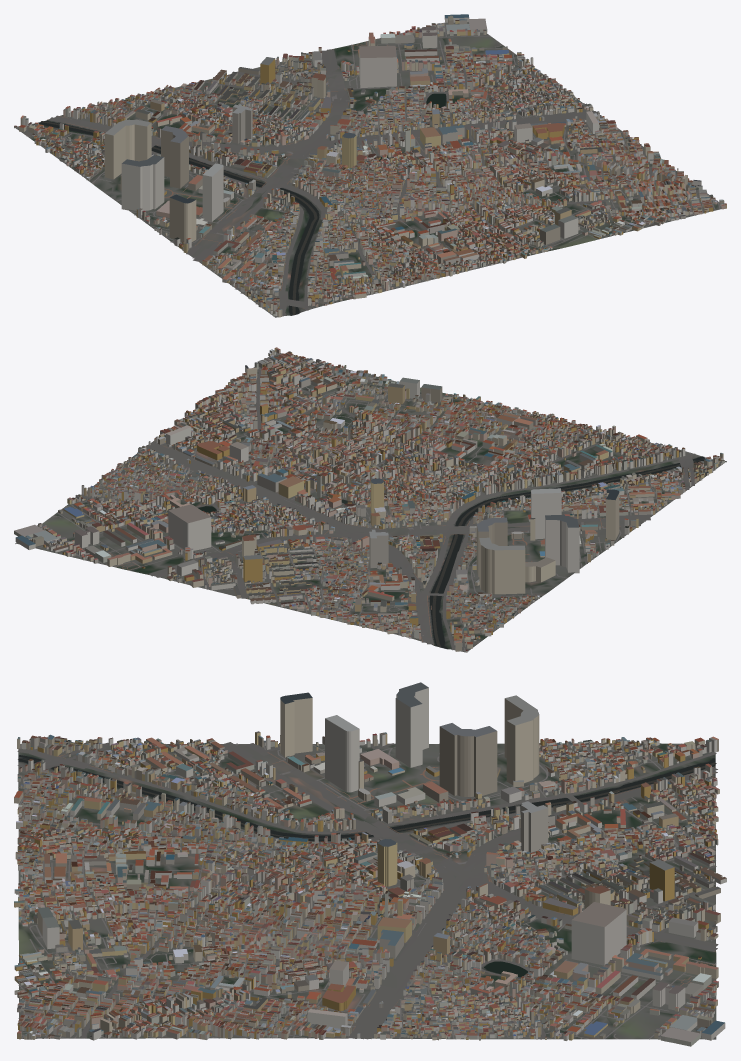
3 views of the same model, one above another, from view 1: azimuth 30°, elevation 25°; view 2: azimuth 150°, elevation 25°; view 3: azimuth 270°, elevation 25° (orthographic). The views are drawn at different scales.
Parts seen in each view (by area): view 1: buildings, ground, roads, water; view 2: buildings, ground, roads, water; view 3: buildings, ground, roads, water.
Boxes of the visible parts, x1,y1,x2,y2 form: buildings: (14,14,726,317); ground: (14,22,721,317); roads: (17,22,721,316); water: (33,24,458,314); buildings: (14,347,724,652); ground: (15,352,726,652); roads: (36,353,725,652); water: (198,456,705,648); buildings: (14,682,726,1046); ground: (18,743,716,1039); roads: (17,742,718,1039); water: (18,755,716,1031).
Bounding box in the file's own units: 1443 × 142 × 1433.
